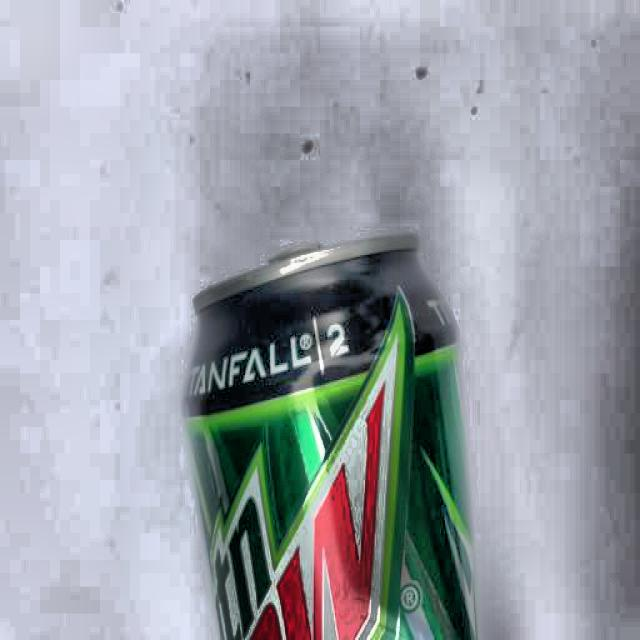metal: (176, 227, 473, 640)
